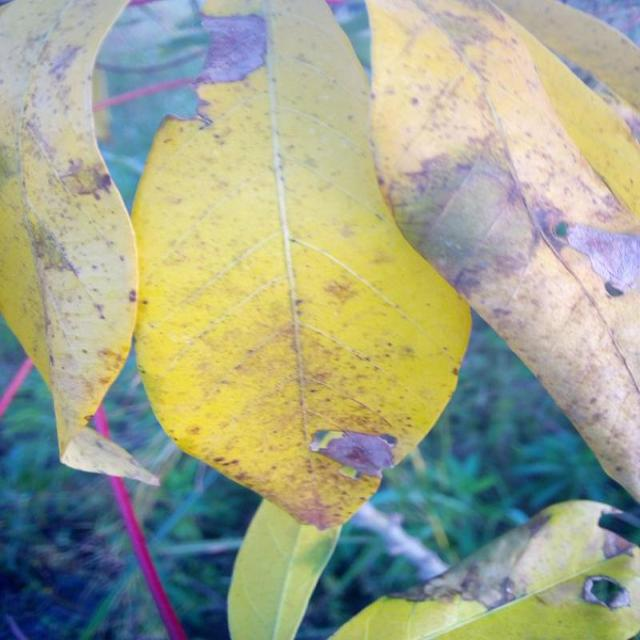cassava leaf: (129, 0, 473, 530), (363, 0, 639, 512), (0, 0, 155, 485), (322, 497, 640, 639)
